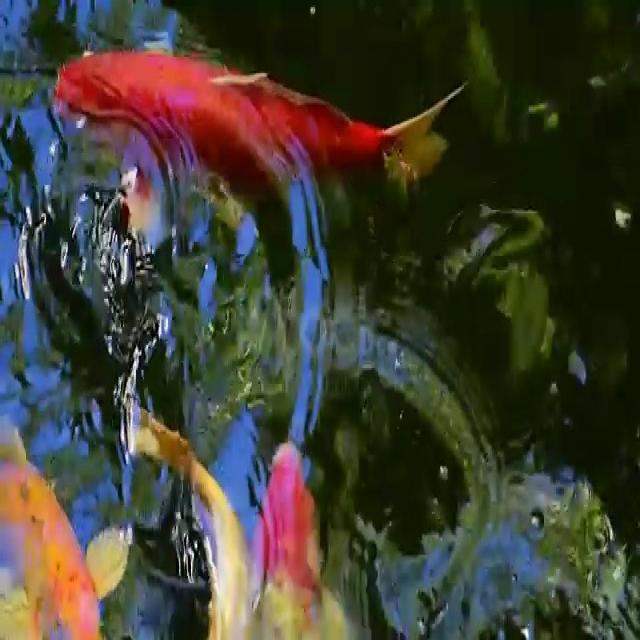fish: (48, 26, 473, 255), (121, 368, 253, 640), (1, 407, 116, 640), (256, 435, 337, 640)
